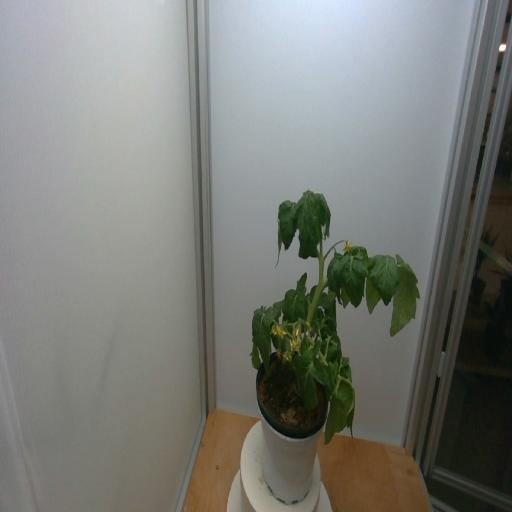Tomato-Leaves-Cupboard-: (389, 249, 419, 341), (324, 370, 354, 448), (295, 190, 321, 262), (251, 305, 277, 372), (292, 353, 318, 415), (342, 250, 368, 307), (372, 250, 398, 305), (285, 288, 308, 330), (365, 264, 384, 314), (280, 198, 298, 250), (314, 186, 332, 237), (330, 254, 344, 309), (308, 357, 333, 385), (326, 302, 340, 338), (310, 284, 328, 308), (275, 225, 285, 266), (294, 269, 309, 293), (249, 333, 258, 369), (340, 356, 352, 382), (340, 283, 348, 309), (272, 297, 282, 315)
